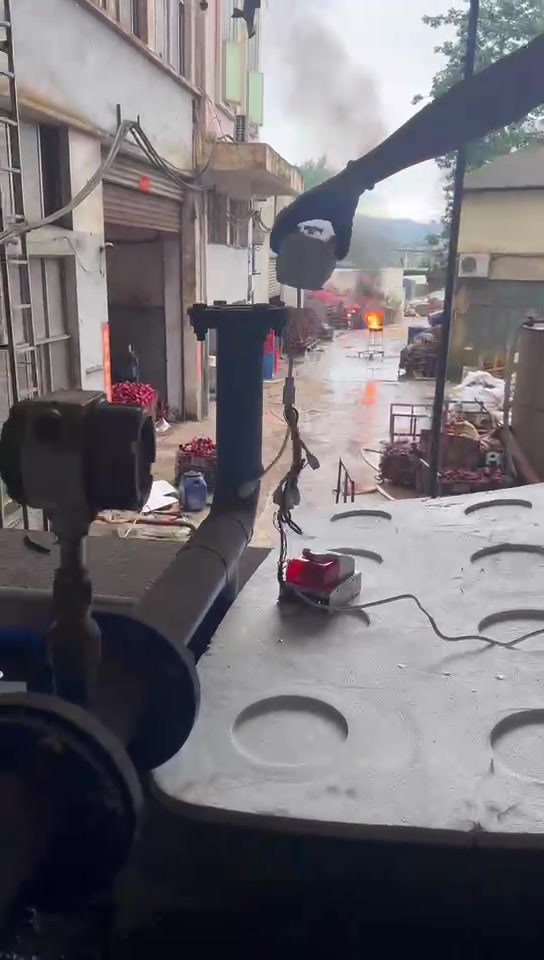fire: (364, 311, 381, 329)
